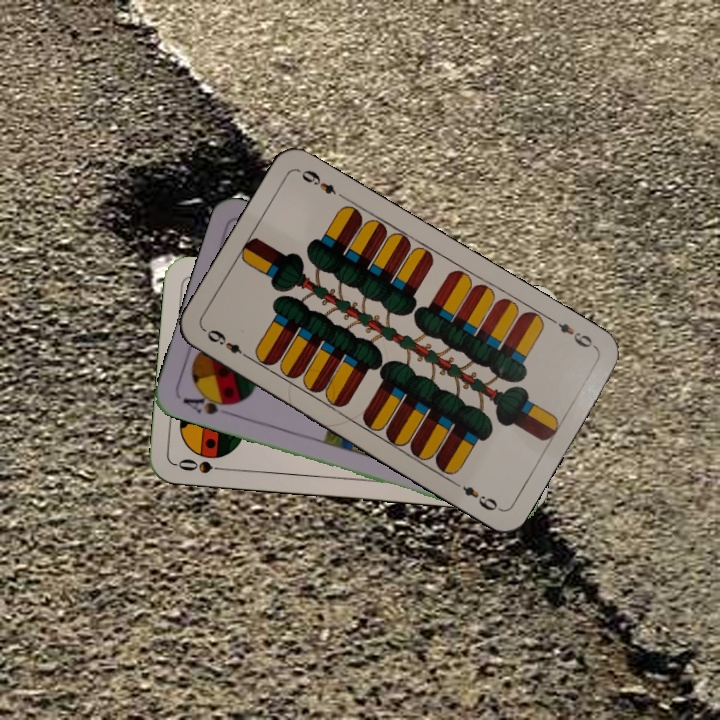E9: (201, 325, 254, 363), (546, 314, 599, 351)
SA: (179, 388, 238, 418)
SO: (173, 454, 232, 476)
